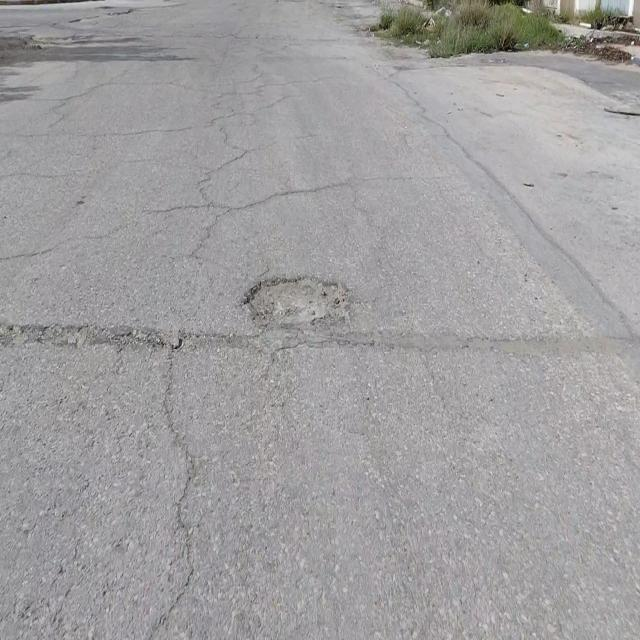Potholes: (240, 272, 350, 327)
